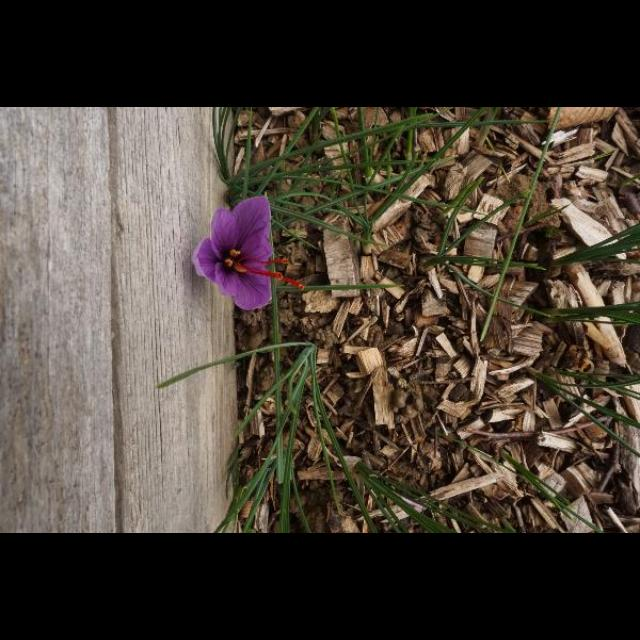flower: (192, 198, 302, 306)
